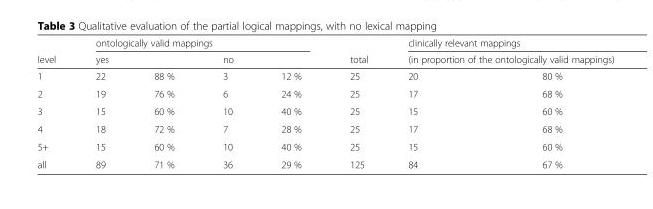table: (36, 36, 613, 169)
table column: (479, 36, 613, 169), (387, 36, 479, 169), (129, 36, 197, 169), (256, 36, 324, 169), (324, 36, 387, 169), (197, 36, 256, 169), (75, 36, 129, 169), (36, 36, 75, 169)
table column header: (36, 36, 613, 84)
table row: (36, 84, 613, 102), (36, 119, 613, 137), (36, 137, 613, 155), (36, 50, 613, 67), (36, 67, 613, 84), (36, 102, 613, 119), (36, 36, 613, 50), (36, 155, 613, 169)
table spanning cell: (387, 36, 613, 67), (75, 36, 324, 50), (324, 36, 387, 84), (197, 50, 324, 67), (75, 50, 197, 67), (36, 36, 75, 84)
